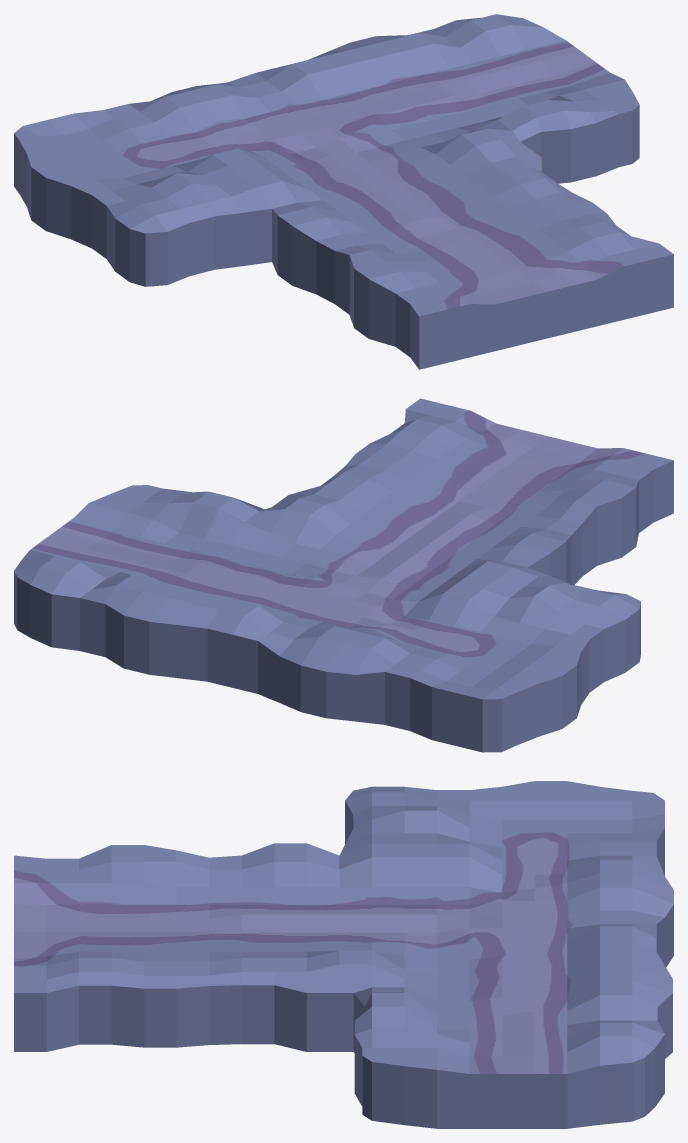
Rendered from A2_Ground_01.fbx.
3 renders of one model, top to bottom at view 1: azimuth 30°, elevation 25°; view 2: azimuth 150°, elevation 25°; view 3: azimuth 270°, elevation 25°, orthographic. The views are drawn at different scales.
Parts seen in each view (by area): view 1: A2_Ground01; view 2: A2_Ground01; view 3: A2_Ground01.
Part boxes in pixels (x1=…): A2_Ground01: x1=14, y1=14, x2=673, y2=369; A2_Ground01: x1=14, y1=398, x2=673, y2=752; A2_Ground01: x1=14, y1=781, x2=673, y2=1128.
Bounding box in the file's own units: 2099 × 259 × 2028.
Materials: 1 (1 with a texture image).
